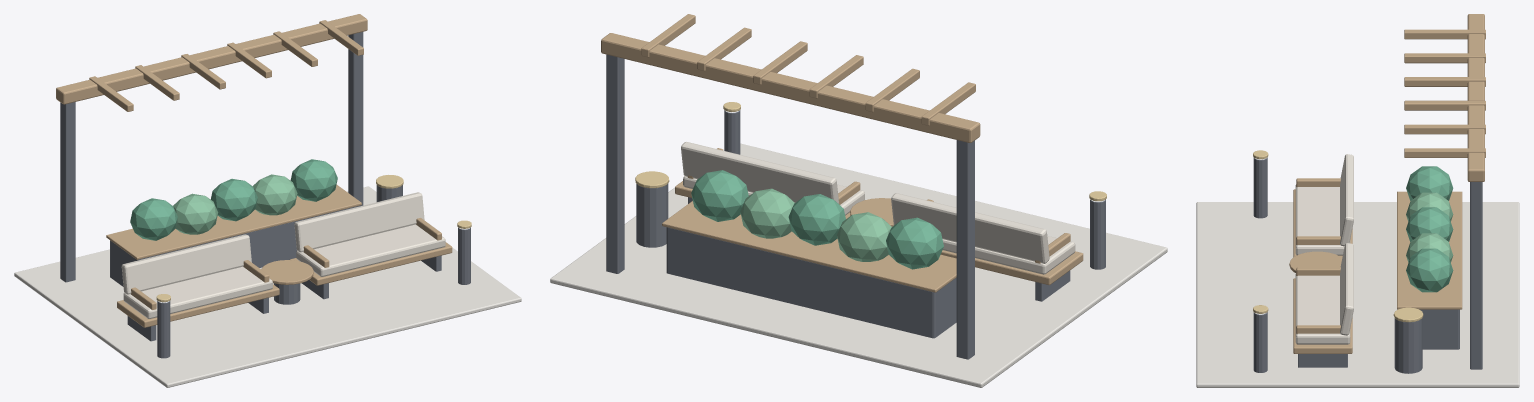
The model's file is rest_lounge_v27_4.glb.
3 renders of one model, left to right at view 1: azimuth 30°, elevation 25°; view 2: azimuth 150°, elevation 25°; view 3: azimuth 270°, elevation 25°, orthographic. The views are drawn at different scales.
Parts seen in each view (by area): view 1: PlazaMat_LoungeStoneRug, PlazaMat_LoungeOak, PlazaMat_WarmSandFabric, PlazaMat_LoungeSteel, PlazaMat_LoungeGreen1, PlazaMat_LoungeGreen2, PlazaMat_LoungeBrass; view 2: PlazaMat_LoungeStoneRug, PlazaMat_LoungeSteel, PlazaMat_LoungeOak, PlazaMat_WarmSandFabric, PlazaMat_LoungeGreen1, PlazaMat_LoungeGreen2, PlazaMat_LoungeBrass; view 3: PlazaMat_LoungeStoneRug, PlazaMat_LoungeOak, PlazaMat_WarmSandFabric, PlazaMat_LoungeSteel, PlazaMat_LoungeGreen1, PlazaMat_LoungeGreen2, PlazaMat_LoungeBrass.
Part boxes in pixels (box(x1,y1,x2,y2)): PlazaMat_LoungeStoneRug: box(14, 186, 521, 387); PlazaMat_LoungeOak: box(56, 14, 452, 327); PlazaMat_WarmSandFabric: box(121, 192, 445, 318); PlazaMat_LoungeSteel: box(60, 32, 470, 358); PlazaMat_LoungeGreen1: box(130, 159, 337, 240); PlazaMat_LoungeGreen2: box(173, 174, 297, 234); PlazaMat_LoungeBrass: box(156, 175, 471, 302); PlazaMat_LoungeStoneRug: box(550, 143, 1167, 387); PlazaMat_LoungeSteel: box(606, 54, 1105, 359); PlazaMat_LoungeOak: box(601, 14, 1083, 292); PlazaMat_WarmSandFabric: box(681, 142, 1075, 274); PlazaMat_LoungeGreen1: box(691, 170, 943, 269); PlazaMat_LoungeGreen2: box(740, 188, 891, 261); PlazaMat_LoungeBrass: box(635, 102, 1106, 201); PlazaMat_LoungeStoneRug: box(1196, 202, 1519, 387); PlazaMat_LoungeOak: box(1289, 14, 1485, 353); PlazaMat_WarmSandFabric: box(1295, 154, 1353, 344); PlazaMat_LoungeSteel: box(1253, 157, 1482, 373); PlazaMat_LoungeGreen1: box(1406, 166, 1453, 292); PlazaMat_LoungeGreen2: box(1406, 192, 1453, 262); PlazaMat_LoungeBrass: box(1253, 150, 1423, 322).
Size of the model in its own units: 5.55 by 2.93 by 4.15.
